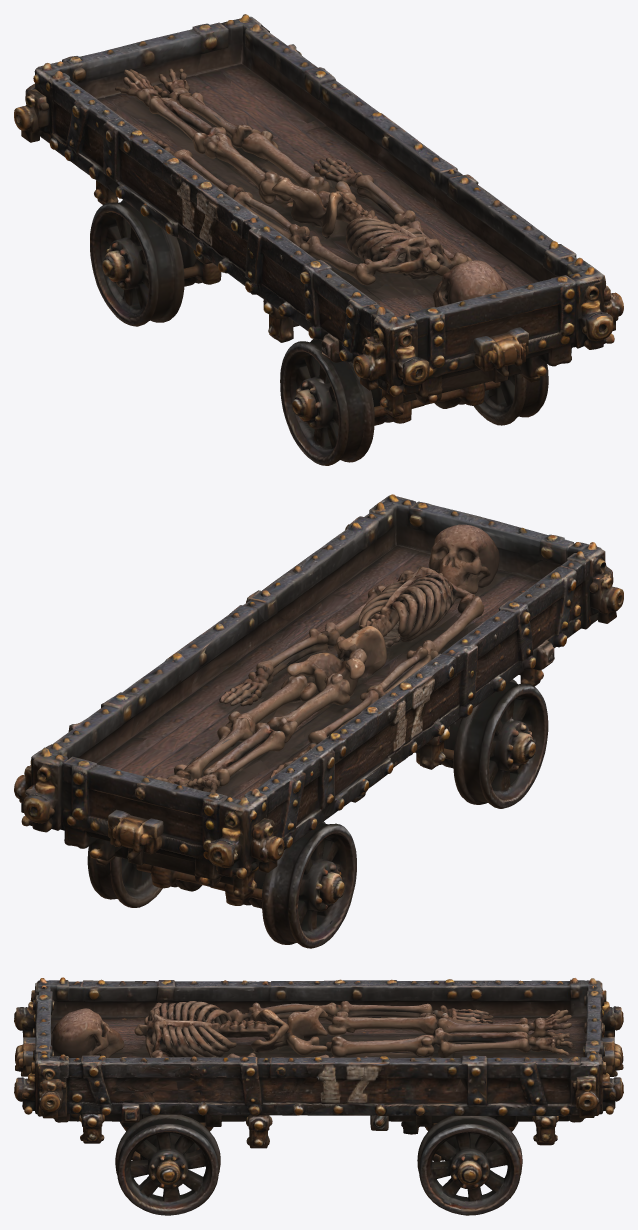
File: raw_traycart.glb
3 renders of one model, top to bottom at view 1: azimuth 30°, elevation 25°; view 2: azimuth 150°, elevation 25°; view 3: azimuth 270°, elevation 25°, orthographic. The views are drawn at different scales.
Visible parts, largest first — view 1: traycart; view 2: traycart; view 3: traycart.
Boxes of the visible parts, box(x1,y1,x2,y2) form: traycart: box(14, 14, 623, 465); traycart: box(14, 494, 623, 948); traycart: box(14, 977, 623, 1215).
Size of the model in its own units: 0.3963 by 0.3059 by 1.
Materials: 1 (1 with a texture image).
